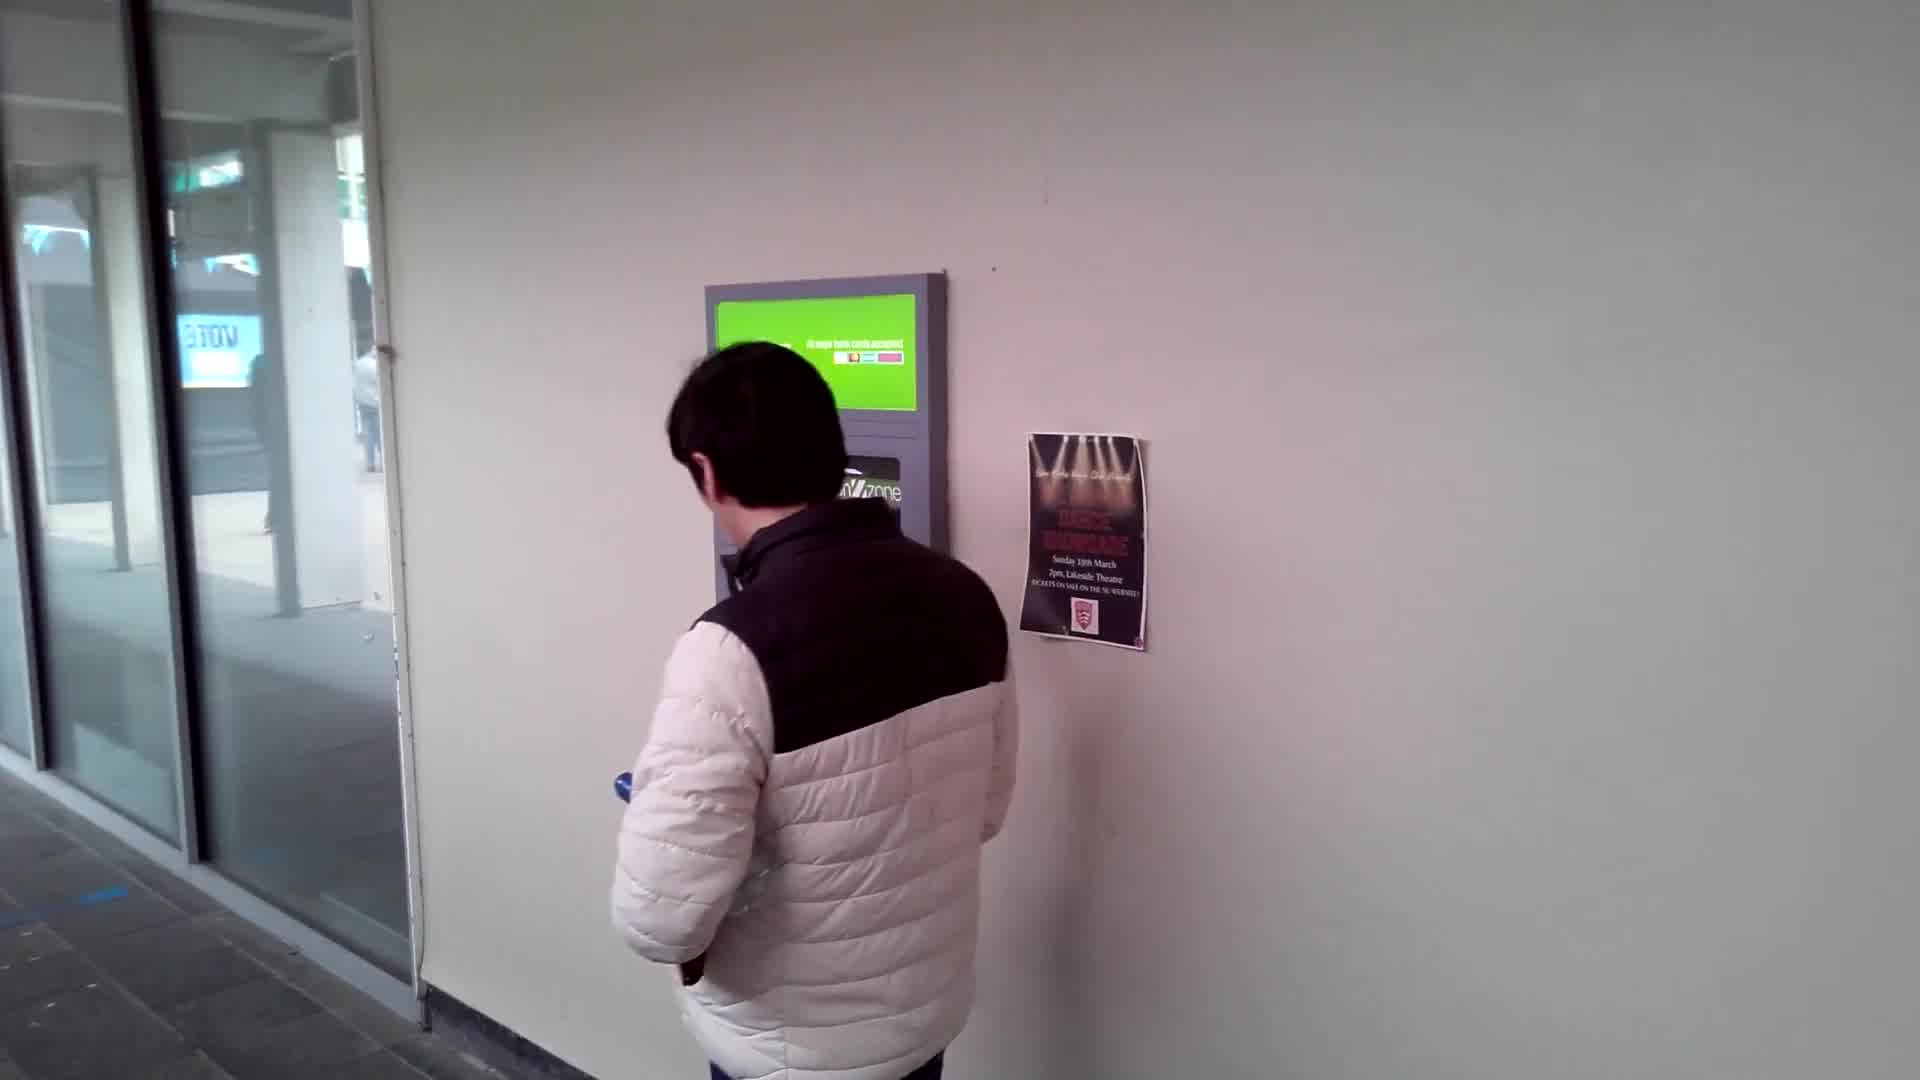Person: (660, 345, 998, 1080)
